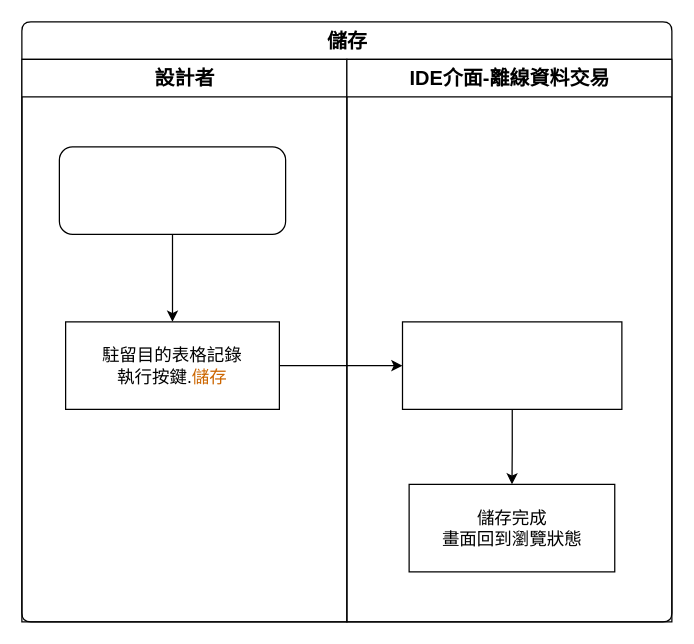
Some shapes in this 694 by 644 pixel diagram are drawn without their labels. The shapes that lost their labels are listed below. From the top down, each one's box as (x1, y1, x2, y2) in pixels, then its label:
(58, 146, 286, 234): 開啟<離線資料交易>
(401, 321, 622, 409): 儲存本次異動內容
